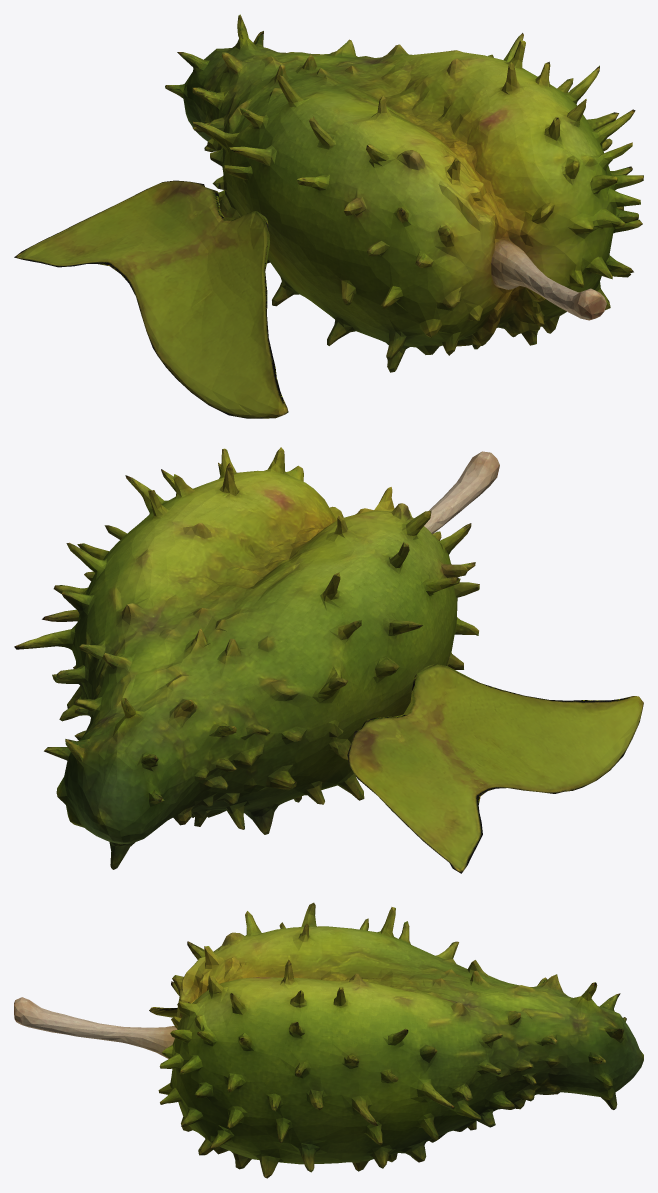
File: mang_cau.glb
3 renders of one model, top to bottom at view 1: azimuth 30°, elevation 25°; view 2: azimuth 150°, elevation 25°; view 3: azimuth 270°, elevation 25°, orthographic. The views are drawn at different scales.
Visible parts, largest first — view 1: world; view 2: world; view 3: world.
Boxes of the visible parts, left/top/right/bottom form: world: left=14, top=14, right=643, bottom=418; world: left=14, top=447, right=643, bottom=873; world: left=14, top=902, right=643, bottom=1178.
Bounding box in the file's own units: 0.7252 × 0.3904 × 0.9911.
1 material, 1 textured.
